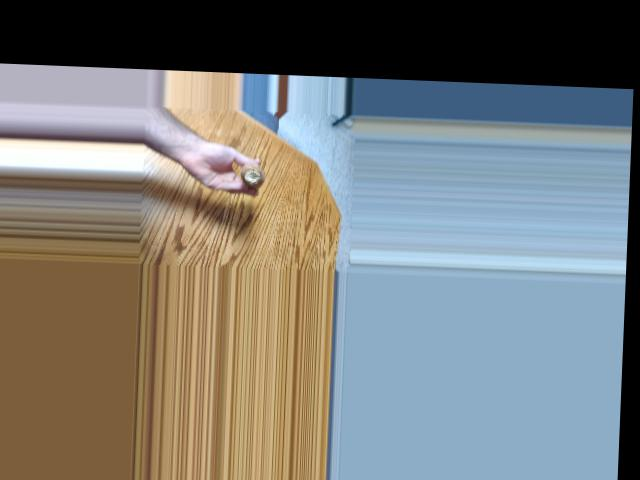sweet_potato: (239, 160, 271, 185)
